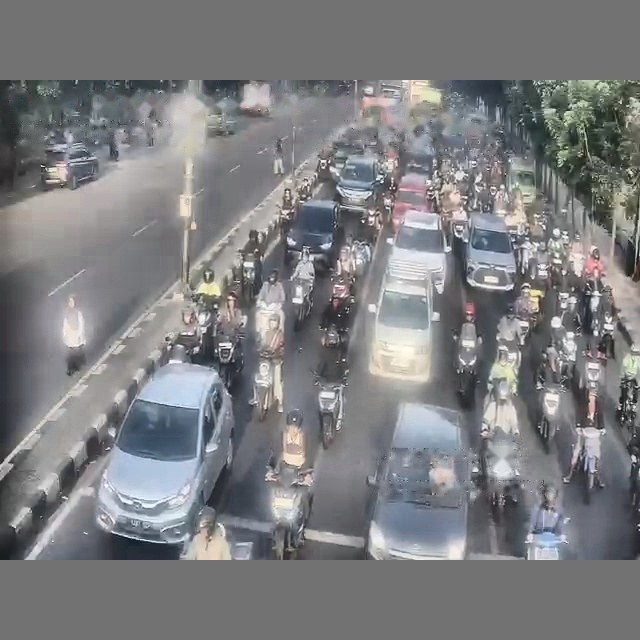Mobil: (95, 363, 234, 545), (366, 403, 476, 559), (368, 273, 439, 383), (387, 210, 451, 294), (463, 213, 516, 291), (285, 199, 341, 268), (336, 156, 384, 214), (41, 143, 98, 189), (391, 173, 426, 231), (506, 156, 536, 204), (331, 140, 364, 180), (405, 146, 435, 178), (206, 107, 235, 135)
Motor: (265, 468, 312, 559), (482, 429, 519, 514), (313, 371, 346, 449), (576, 427, 605, 504), (453, 332, 481, 407), (214, 332, 243, 389), (537, 383, 560, 453), (193, 294, 218, 358), (254, 348, 274, 421), (526, 531, 566, 559), (291, 278, 312, 330), (617, 378, 637, 431), (241, 251, 259, 305), (352, 240, 370, 278), (599, 313, 614, 357), (278, 204, 295, 238)
Truk: (240, 81, 271, 116)
